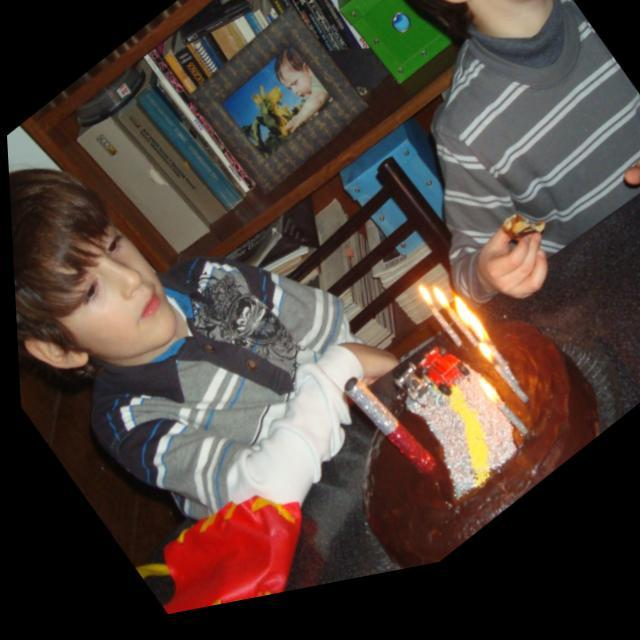Nonhelmet: (7, 163, 181, 390)
